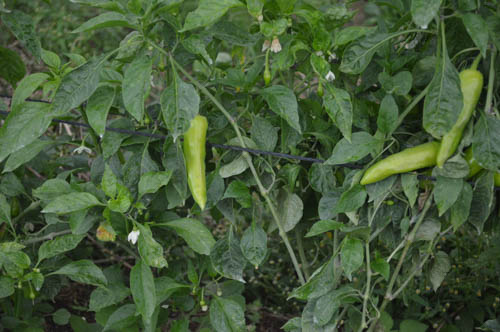ChiliPepper: (429, 67, 487, 180), (357, 142, 448, 190), (174, 112, 215, 212)
